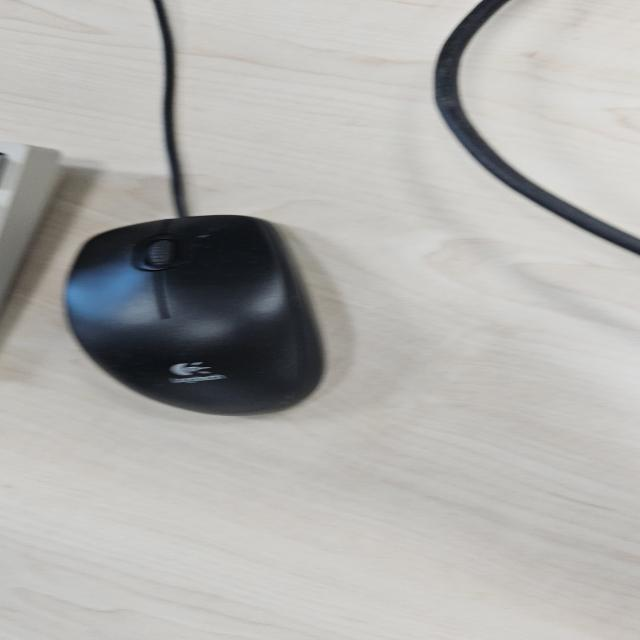Mouse: (61, 213, 328, 417)
